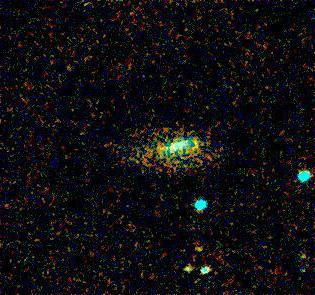star: (183, 231, 213, 261)
